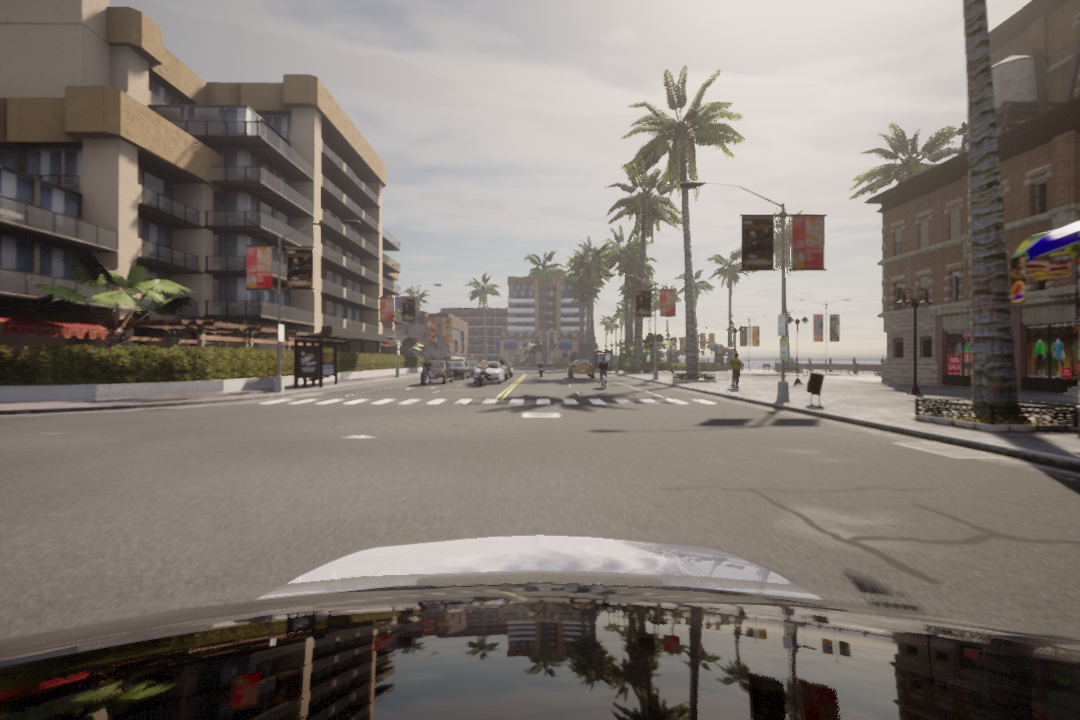walkside: (258, 395, 727, 406)
